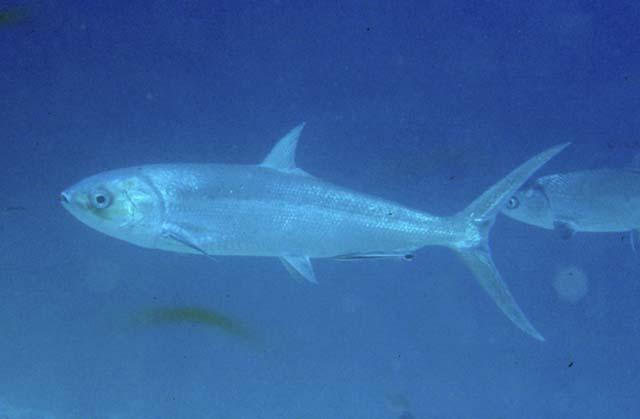Mulut: (42, 169, 82, 229)
Sirip Dada: (148, 210, 230, 268)
Sirip Ekor: (428, 119, 580, 365)
Sirip Perut: (266, 238, 326, 296)
Sirip Punggung: (244, 108, 330, 184)
